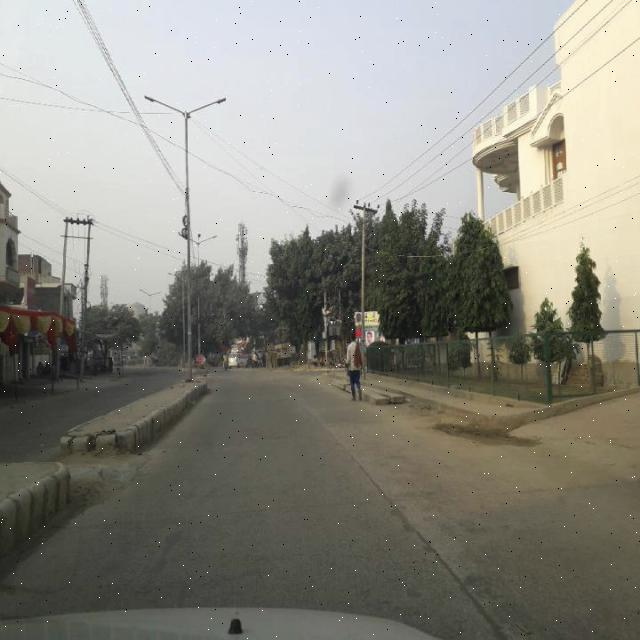D01: (316, 408, 414, 528), (419, 528, 504, 635)
